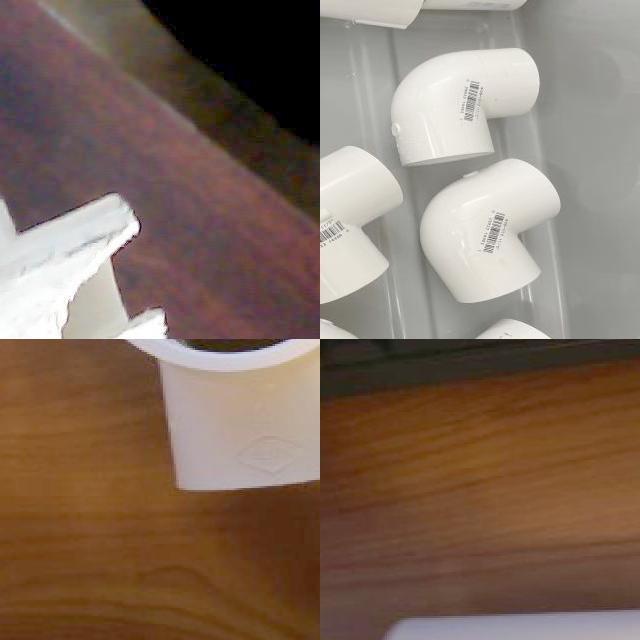Defective: (17, 221, 168, 339)
L Joint: (421, 159, 563, 307), (389, 48, 542, 169)
T Joint: (0, 196, 168, 339), (320, 144, 404, 304)
